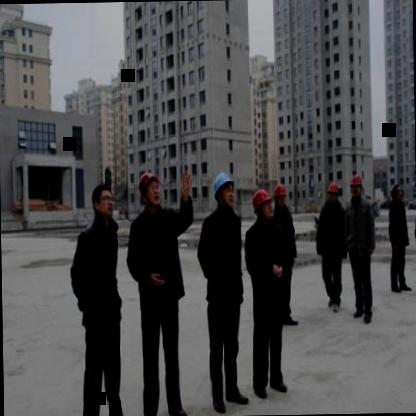head: (90, 180, 116, 223), (390, 178, 404, 204)
helmet: (210, 167, 238, 212), (136, 168, 164, 212), (250, 186, 273, 224), (346, 171, 364, 198), (273, 180, 290, 206), (326, 180, 340, 206)
